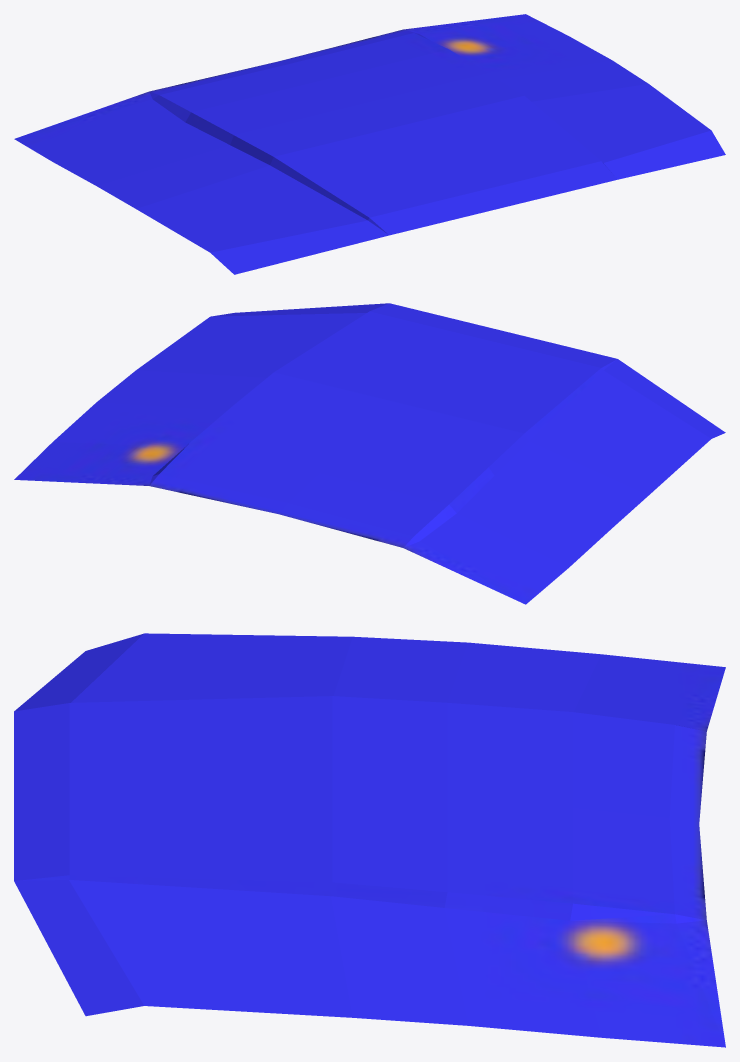
File: hood3.obj
3 renders of one model, top to bottom at view 1: azimuth 30°, elevation 25°; view 2: azimuth 150°, elevation 25°; view 3: azimuth 270°, elevation 25°, orthographic. The views are drawn at different scales.
Parts seen in each view (by area): view 1: hood; view 2: hood; view 3: hood.
Part boxes in pixels (<box>): hood: <box>14,14,725,274</box>; hood: <box>14,303,725,604</box>; hood: <box>14,633,725,1047</box>.
Size of the model in its own units: 1.09 by 0.0908 by 0.8576.
